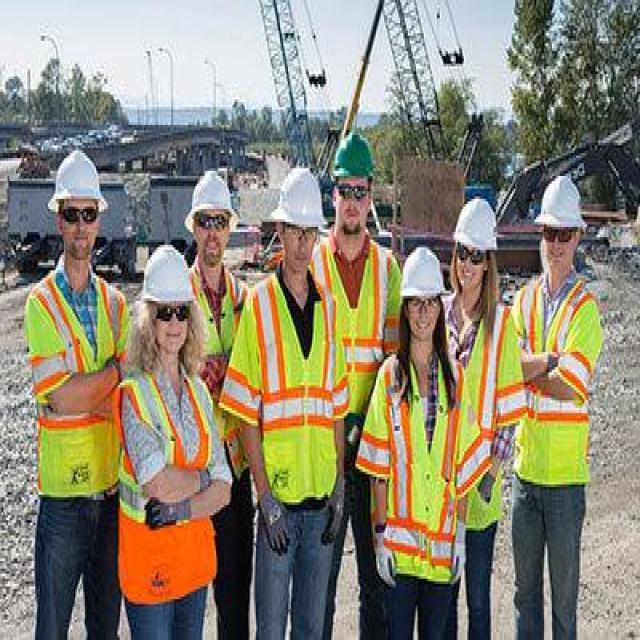reflective_jacket: (25, 275, 123, 502), (120, 372, 217, 601), (249, 283, 340, 505), (377, 356, 465, 579), (513, 278, 600, 487), (447, 302, 525, 500), (318, 240, 398, 432)
safety_helmet: (46, 145, 105, 211), (139, 242, 193, 305), (272, 163, 323, 229), (534, 173, 585, 231), (398, 242, 446, 303), (451, 193, 500, 252), (329, 127, 377, 186), (187, 165, 233, 216)
